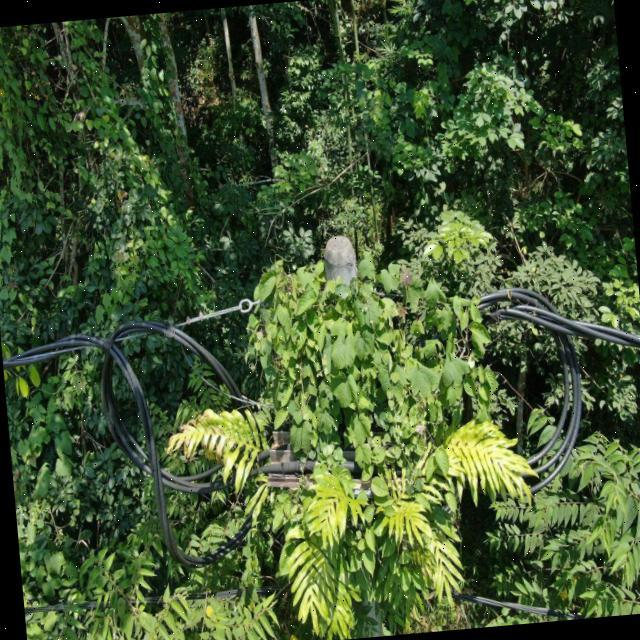critical vegetation: (216, 215, 538, 604)
